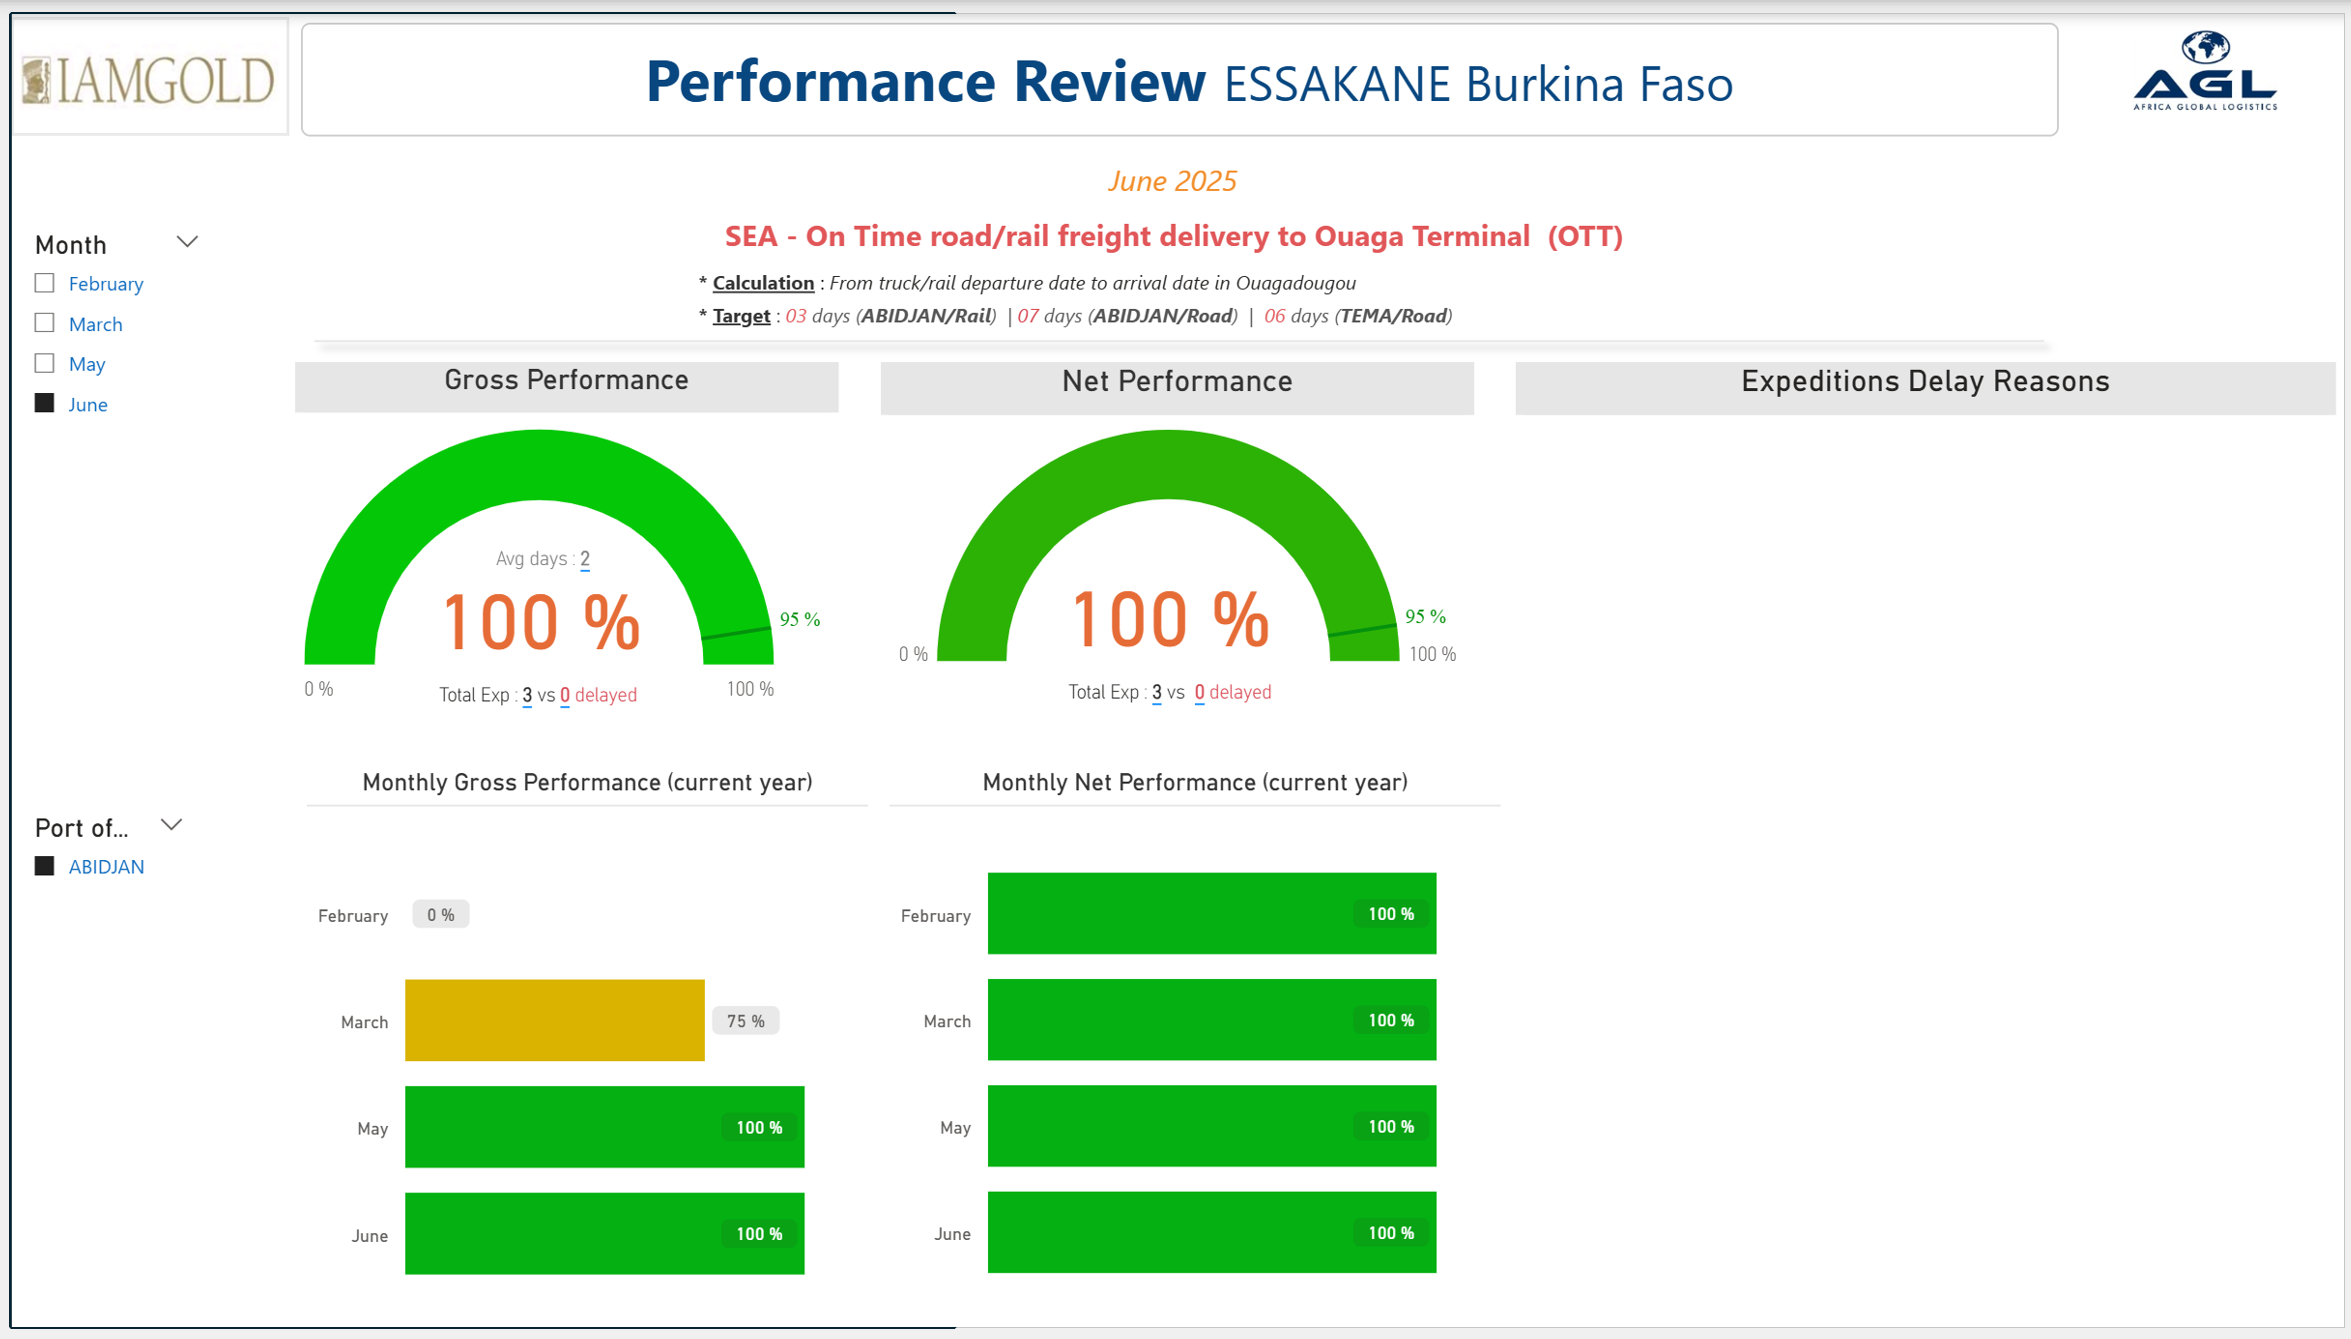

The page's visual inventory and layout, read from the dashboard file:
{"tool":"powerbi","page":{"name":"SEA - ABJ | Transport Time POD-BF (OTT)","canvas":[1280,720],"ordinal":2},"visuals":[{"type":"image","box":[1128.2,0,151.5,66.6],"z":0},{"type":"image","box":[0,0.9,152.4,65.7],"z":1000},{"type":"textbox","box":[158.5,4.4,963.5,62.2],"z":2000},{"type":"textbox","box":[369.6,104.2,535.2,33.3],"z":3000},{"type":"textbox","box":[435.3,75.3,403.8,37.7],"z":4000},{"type":"textbox","box":[371.5,132.5,474.4,47.4],"z":5000},{"type":"gauge","title":"Net Performance","fields":{"Y":["Avg(ESSA_sea.Net Performance % 2)"]},"box":[477.3,190.4,325.4,182],"z":5000,"group":"g1"},{"type":"shape","box":[156.8,170.8,966.1,18.4],"z":6000},{"type":"slicer","fields":{"Values":["ESSA_sea.Month"]},"box":[0,113,115.6,288.2],"z":7000},{"type":"gauge","title":"Gross Performance","fields":{"Y":["Avg(ESSA_sea.Gross Performance % 2)"]},"box":[156.5,190.4,298.1,202.4],"z":8000},{"type":"slicer","fields":{"Values":["ESSA_sea.Port of Discharge"]},"box":[0,432.7,106.9,94.6],"z":9000},{"type":"group","id":"g1","title":"Groupe 1","box":[477.3,190.4,325.4,182],"z":10000,"group":"g2"},{"type":"barChart","title":"Monthly Gross Performance (current year)","fields":{"Y":["Avg(ESSA_sea.Gross Performance % 2)"],"Category":["ESSA_sea.Month"]},"box":[162.2,413.4,307.7,306.8],"z":10000},{"type":"barChart","title":"Monthly Net Performance (current year)","fields":{"Y":["Avg(ESSA_sea.Net Performance % 2)"],"Category":["ESSA_sea.Month"]},"box":[481.3,413.4,335,305.9],"z":11000},{"type":"barChart","title":"Expeditions Delay Reasons","fields":{"Category":["ESSA_sea.Reason for delay2"],"Y":["CountNonNull(ESSA_sea.Reason for delay2)"]},"box":[825.4,190.4,449.6,276.1],"z":12000},{"type":"treemap","fields":{"Group":["ESSA_sea.Delay Responsibility 2"],"Values":["CountNonNull(ESSA_sea.Delay Responsibility 2)"]},"box":[825,469,449,250],"z":13000},{"type":"textbox","box":[241.3,282.6,100,33.9],"z":14000},{"type":"textbox","box":[208,357,161.3,31.7],"z":15000},{"type":"group","id":"g2","title":"Groupe 2","box":[477.3,190.4,325.4,197.5],"z":17000},{"type":"textbox","box":[554.7,356.1,161.3,31.7],"z":17000,"group":"g2"}]}

Visuals, with their boxes in screenshot pixels (x1, y1, x2, y2), scaled from the page's 1280x720 canvas onto the 2351x1339 screenshot:
image: 2072,0,2350,124
image: 0,2,280,124
textbox: 291,8,2061,124
textbox: 679,194,1662,256
textbox: 800,140,1541,210
textbox: 682,246,1554,335
"Net Performance" gauge: 877,354,1474,693
shape: 288,318,2062,352
slicer - ESSA_sea.Month: 0,210,212,746
"Gross Performance" gauge: 287,354,835,730
slicer - ESSA_sea.Port of Discharge: 0,805,196,981
"Groupe 1" group: 877,354,1474,693
"Monthly Gross Performance (current year)" barChart: 298,769,863,1338
"Monthly Net Performance (current year)" barChart: 884,769,1499,1338
"Expeditions Delay Reasons" barChart: 1516,354,2342,868
treemap - ESSA_sea.Delay Responsibility 2 x CountNonNull(ESSA_sea.Delay Responsibility 2): 1515,872,2340,1337
textbox: 443,526,627,589
textbox: 382,664,678,723
"Groupe 2" group: 877,354,1474,721
textbox: 1019,662,1315,721
